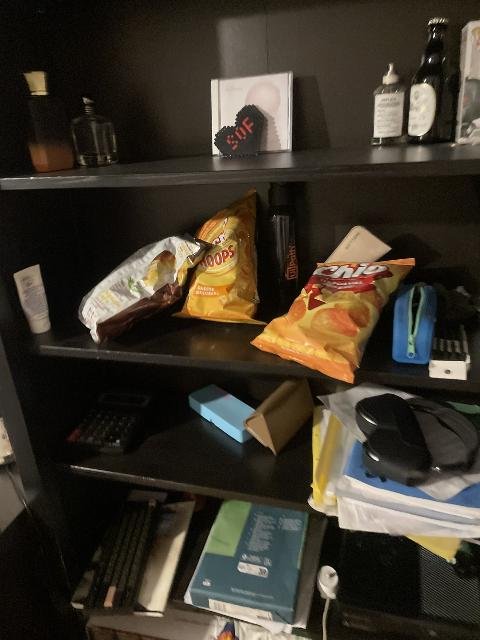Chio Cascaval 125g: (248, 252, 417, 384)
Chio Hula Hoops Cheese 70g: (166, 191, 261, 322)
Lays Beef Grilled Ribs 125g: (76, 235, 212, 343)
